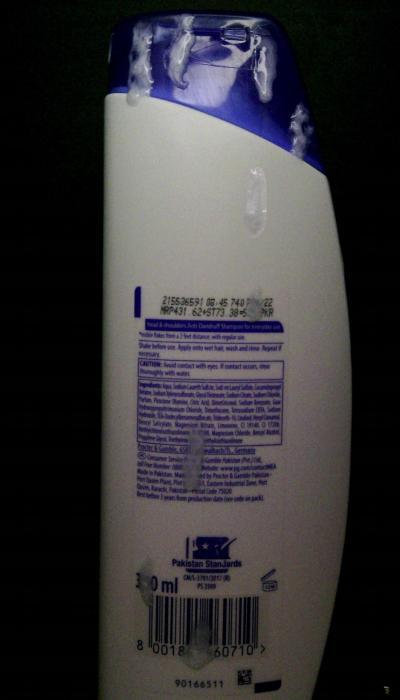pob_unacc: (228, 12, 288, 106), (162, 13, 196, 98), (124, 19, 153, 112), (282, 98, 316, 170), (178, 621, 220, 676), (176, 427, 209, 494), (241, 164, 270, 240), (133, 556, 157, 612), (237, 290, 269, 327)
